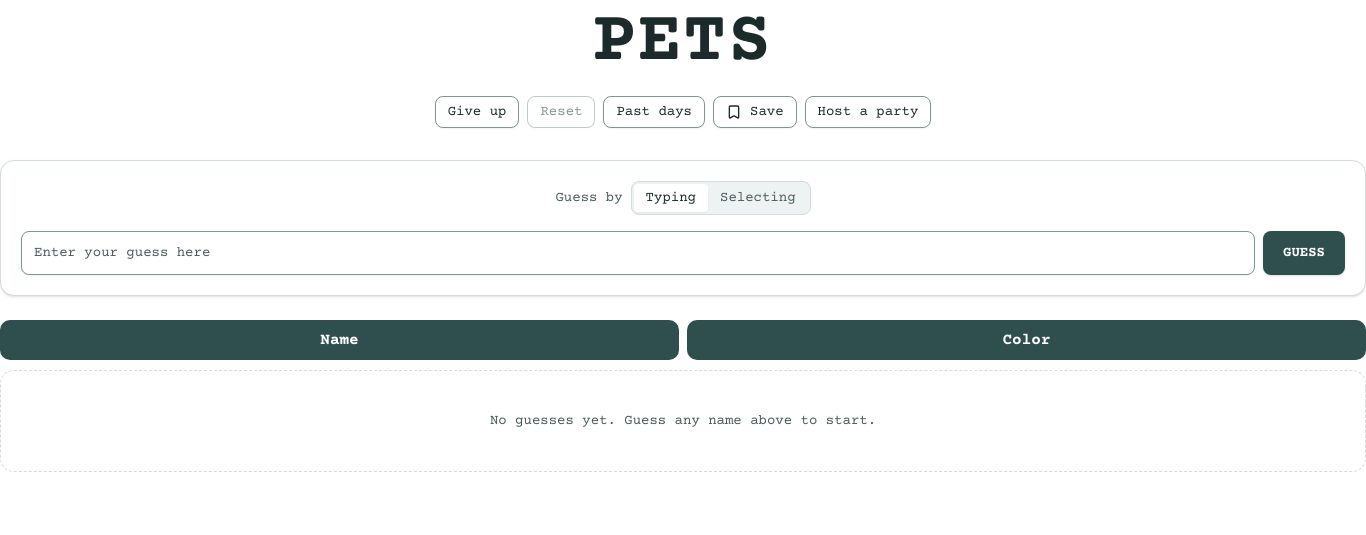
PlayPage › giving up shows no stats
Expected: the text "No guesses yet. Guess any name above to start." is shown, [0, 370, 1365, 472]
Step 1. Click the button "Give up" → point(477, 112), box [435, 96, 520, 128]
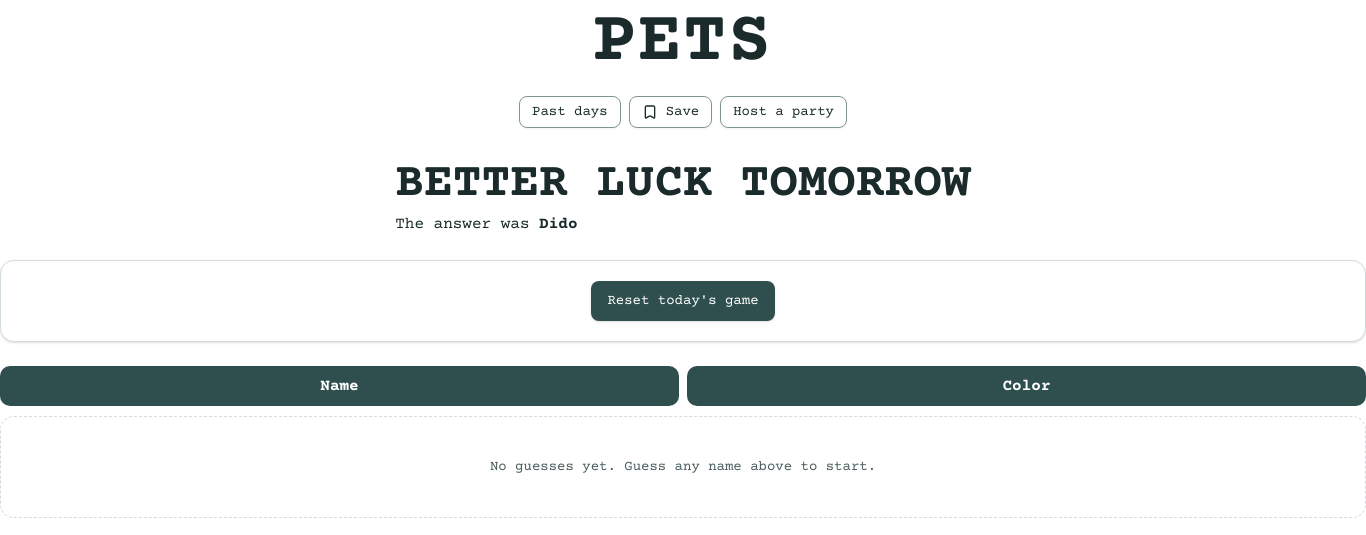
Expected: the text "Better luck tomorrow" is shown, [395, 160, 971, 208]
